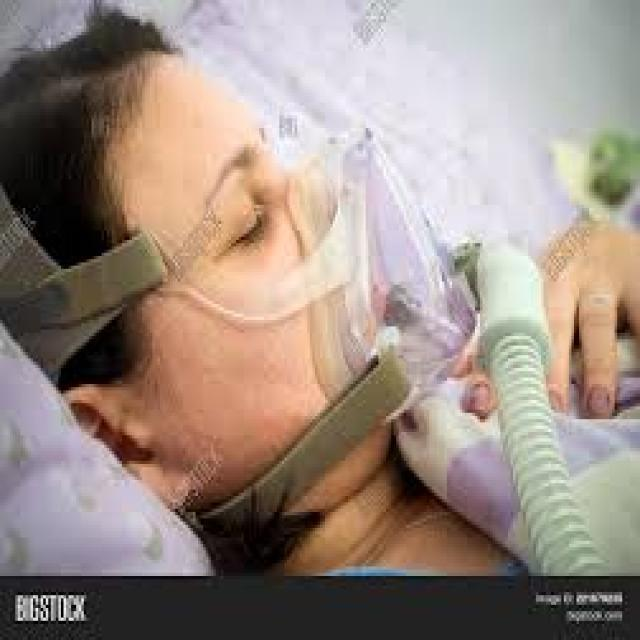oxygen_mask: (313, 136, 523, 459)
